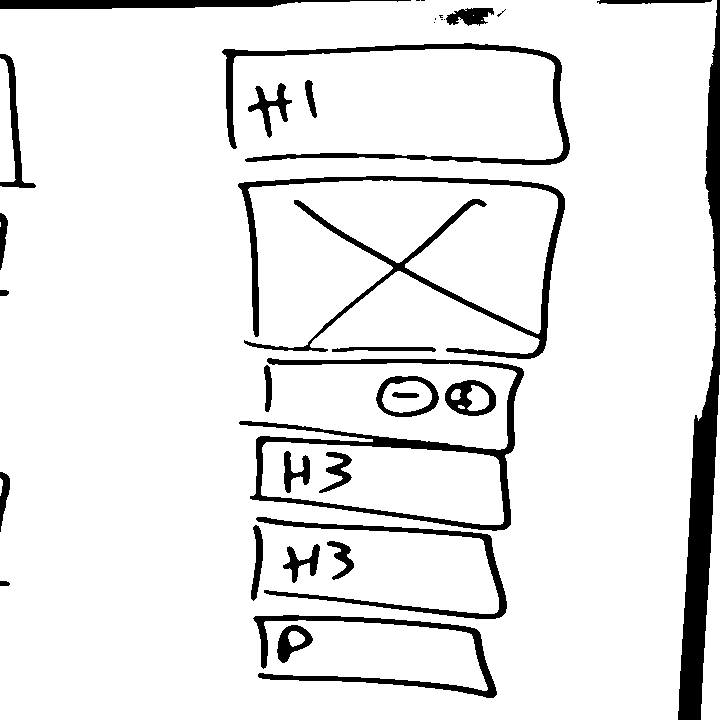heading1: (215, 37, 576, 168)
heading3: (246, 513, 513, 619), (247, 434, 519, 532)
inline stepper bar: (235, 356, 528, 452)
paragraph: (249, 611, 501, 699)
picture: (233, 172, 569, 360)
